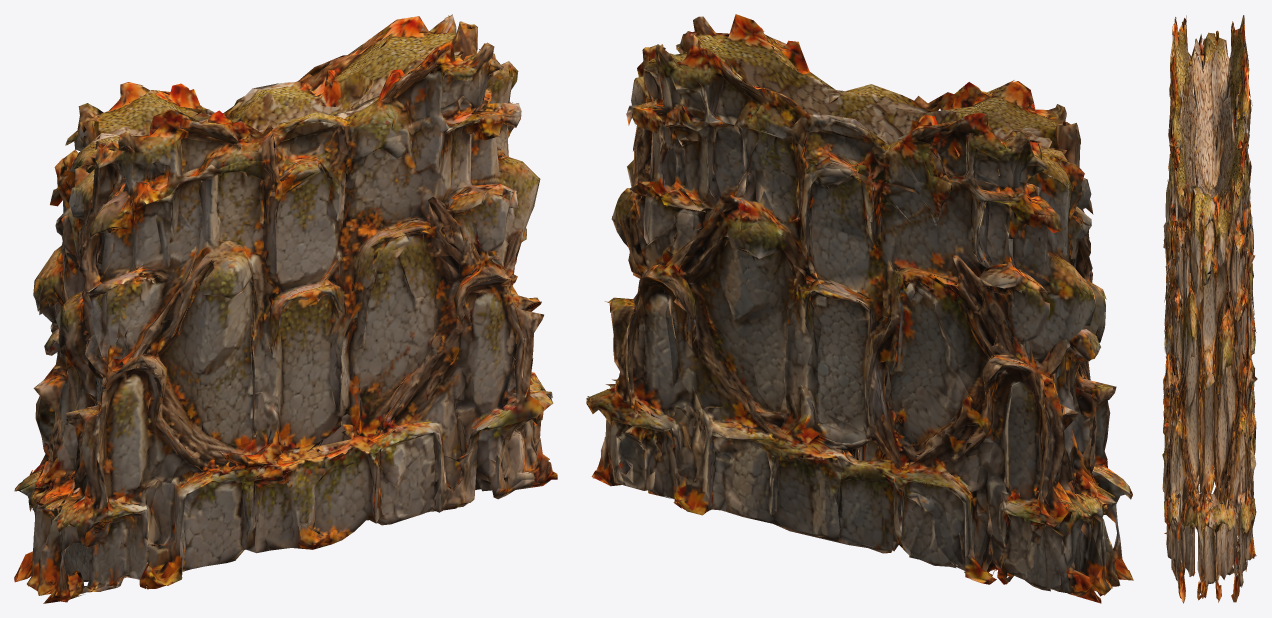
The model's file is FallSinkingDoor.fbx.
3 views of the same model, side by side, from view 1: azimuth 30°, elevation 25°; view 2: azimuth 150°, elevation 25°; view 3: azimuth 270°, elevation 25° (orthographic). The views are drawn at different scales.
Parts seen in each view (by area): view 1: SinkingPanel; view 2: SinkingPanel; view 3: SinkingPanel.
Boxes of the visible parts, bbox=[...] form: SinkingPanel: bbox=[14, 14, 557, 603]; SinkingPanel: bbox=[586, 14, 1133, 603]; SinkingPanel: bbox=[1162, 15, 1257, 603].
Bounding box in the file's own units: 98.52 × 85.9 × 18.
Materials: 1 (1 with a texture image).
